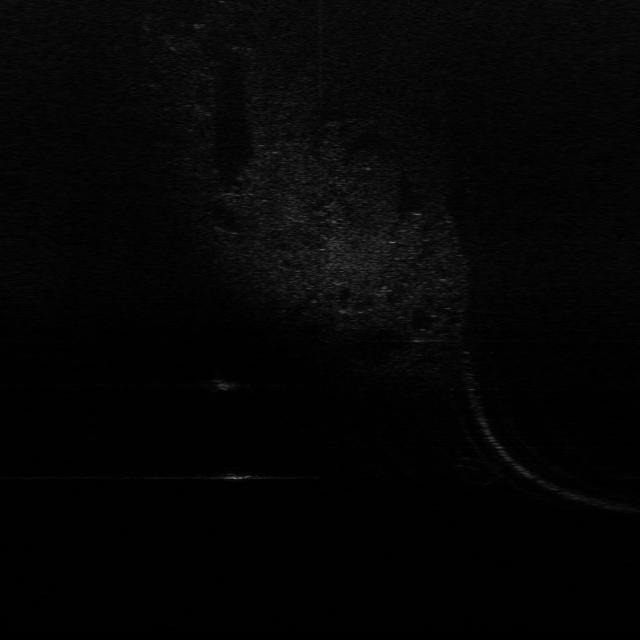cube: (218, 466, 254, 484)
square cage: (203, 372, 242, 393)
tyre: (450, 452, 500, 486)
